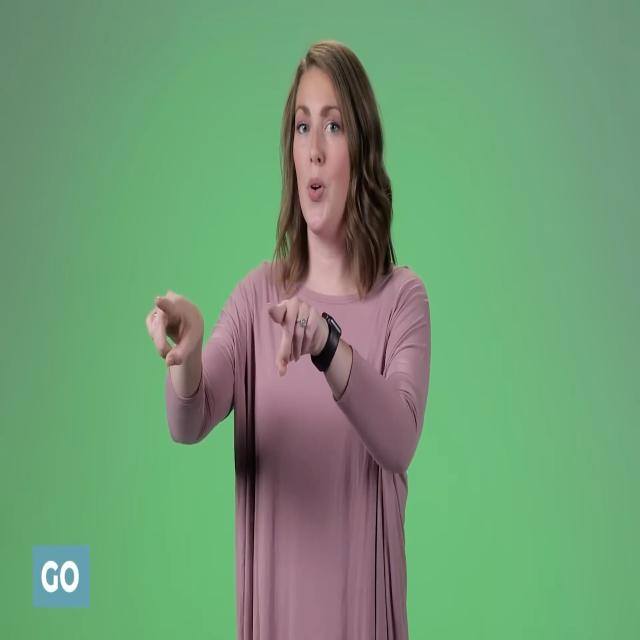go: (126, 273, 356, 405)
